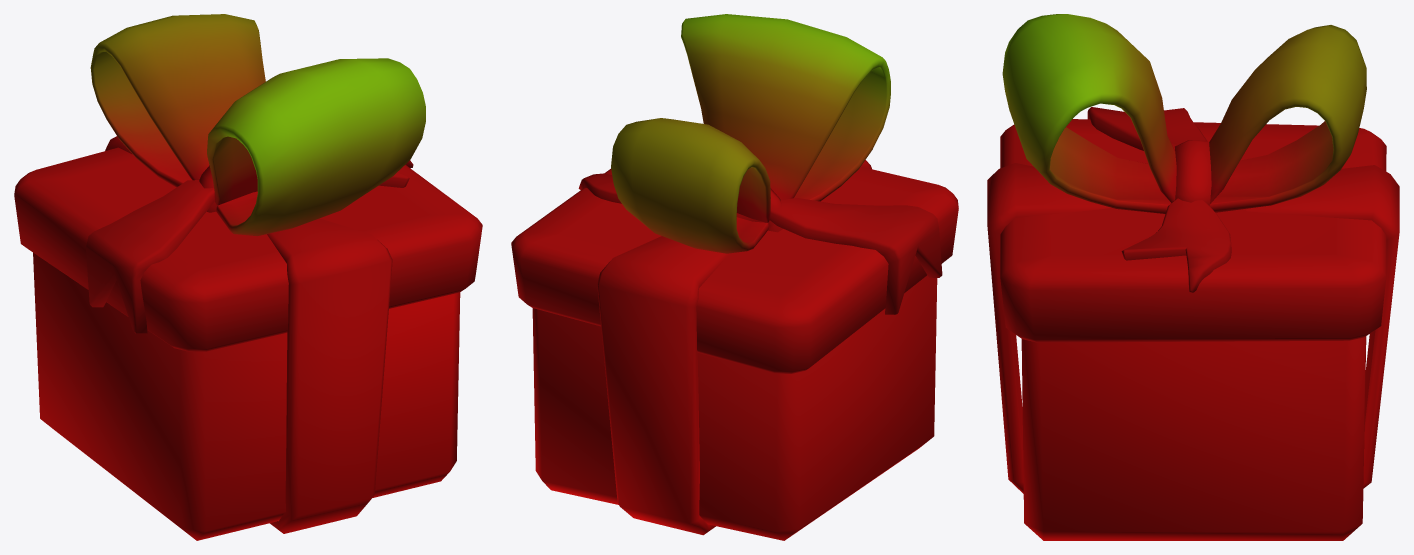
File: MDL_ItemBox.fbx
3 views of the same model, side by side, from view 1: azimuth 30°, elevation 25°; view 2: azimuth 150°, elevation 25°; view 3: azimuth 270°, elevation 25° (orthographic). The views are drawn at different scales.
Visible parts, largest first — view 1: ItemBox; view 2: ItemBox; view 3: ItemBox.
Part boxes in pixels (<box>): ItemBox: <box>14,14,482,540</box>; ItemBox: <box>511,14,958,540</box>; ItemBox: <box>987,14,1399,540</box>.
Size of the model in its own units: 151 by 189 by 152.
